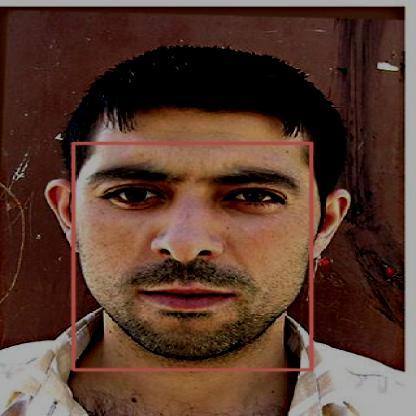without_mask: (73, 143, 311, 369)
